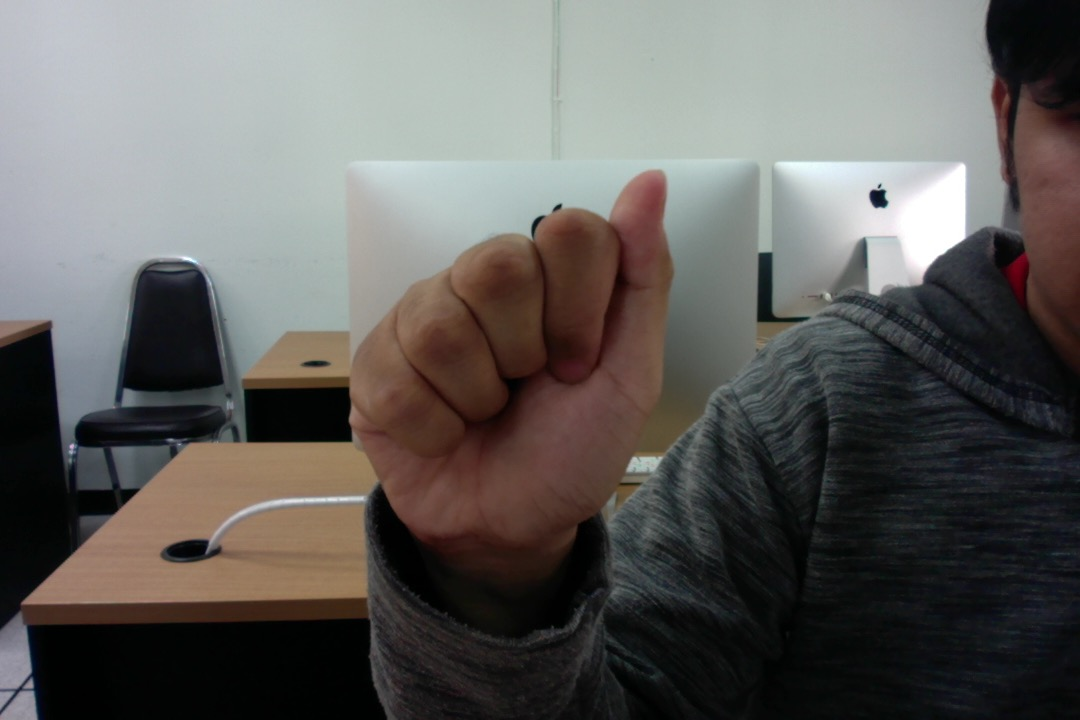or: (341, 157, 690, 566)
